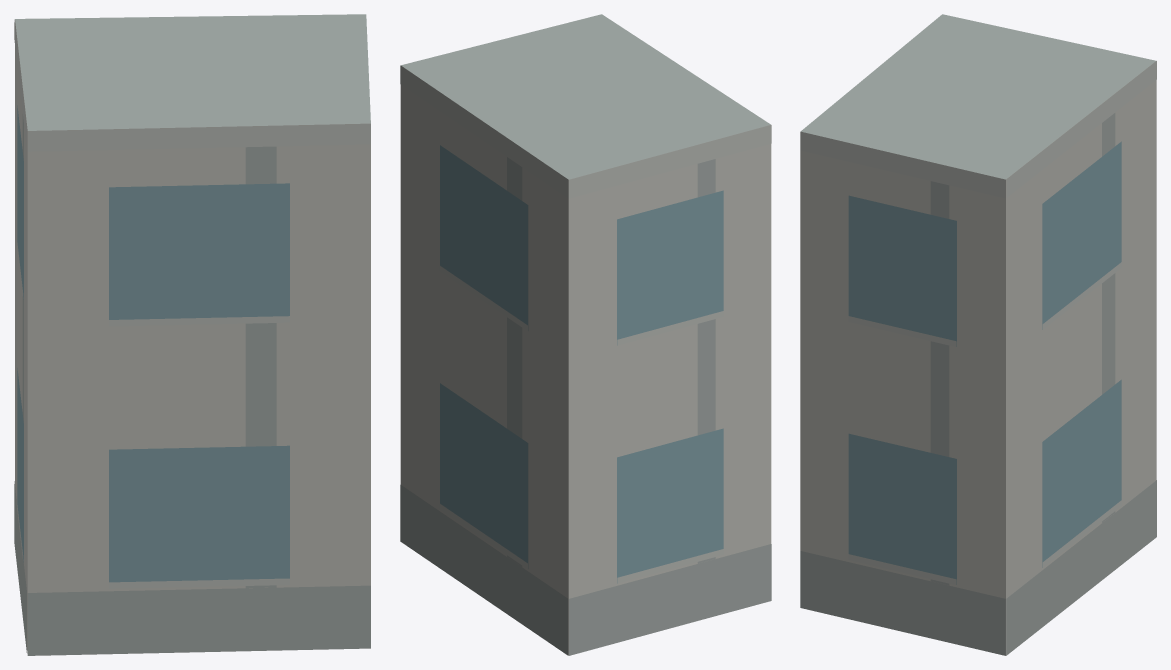
The model's file is survey-upis-32578494.glb.
3 renders of one model, left to right at view 1: azimuth 30°, elevation 25°; view 2: azimuth 150°, elevation 25°; view 3: azimuth 270°, elevation 25°, orthographic. The views are drawn at different scales.
Visible parts, largest first — view 1: survey-upis-32578494.tmp; view 2: survey-upis-32578494.tmp; view 3: survey-upis-32578494.tmp.
Boxes of the visible parts, x1=… form: survey-upis-32578494.tmp: x1=14, y1=14, x2=370, y2=655; survey-upis-32578494.tmp: x1=400, y1=14, x2=771, y2=655; survey-upis-32578494.tmp: x1=800, y1=14, x2=1156, y2=655.
Bounding box in the file's own units: 4.56 × 6.1 × 4.14.
